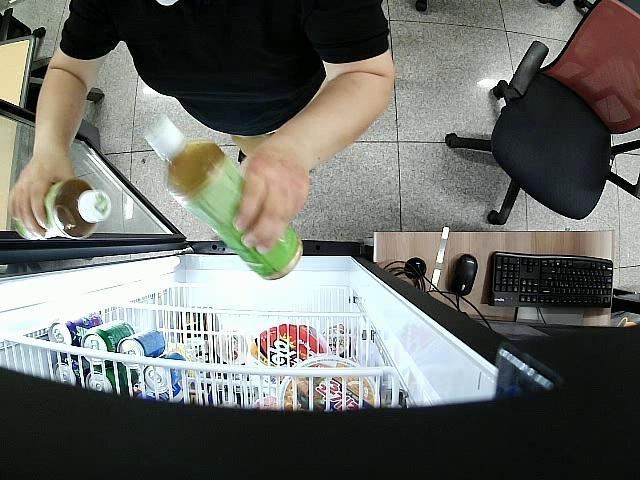19_17cha: (146, 116, 303, 284), (15, 180, 114, 241)
